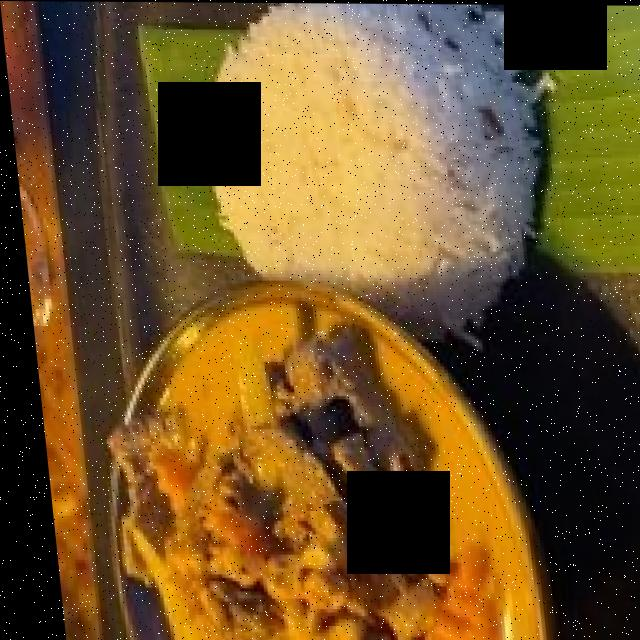beef: (238, 343, 416, 624)
chicken-curry-cream-coconut-milk-curry-spices-paste: (107, 313, 508, 630)
rice-jasmin: (207, 16, 528, 313)
